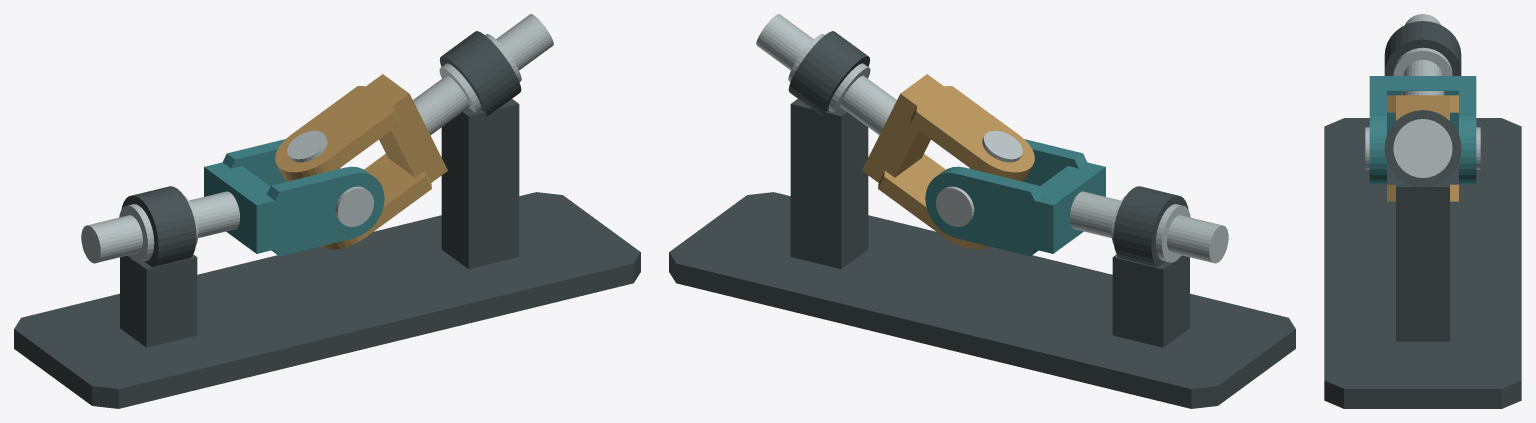
3 views of the same model, side by side, from view 1: azimuth 30°, elevation 25°; view 2: azimuth 150°, elevation 25°; view 3: azimuth 270°, elevation 25° (orthographic).
Visible parts, largest first — view 1: WholeLowDisplayFoot, OutputWholeBearingUpright, InputMinusWholeBoredForkCheek, InputWholeBearingUpright, OutputPlusWholeBoredForkCheek, InputWholeCollaredShortShaft, OutputWholeCollaredShortShaft, InputWholeForkBridge, OutputWholeForkBridge, OutputWholeThroughBearingSleeve, InputWholeThroughBearingSleeve, OutputMinusWholeBoredForkCheek (+3 smaller); view 2: WholeLowDisplayFoot, OutputWholeBearingUpright, InputPlusWholeBoredForkCheek, InputWholeBearingUpright, OutputPlusWholeBoredForkCheek, InputWholeCollaredShortShaft, OutputWholeCollaredShortShaft, OutputWholeForkBridge, InputWholeForkBridge, OutputWholeThroughBearingSleeve, InputWholeThroughBearingSleeve, OutputMinusWholeBoredForkCheek (+3 smaller); view 3: WholeLowDisplayFoot, OutputWholeBearingUpright, OutputWholeCollaredShortShaft, InputWholeThroughBearingSleeve, OutputWholeThroughBearingSleeve, InputMinusWholeBoredForkCheek, InputPlusWholeBoredForkCheek, InputWholeForkBridge, InputWholeCollaredShortShaft, OutputWholeForkBridge, OutputMinusWholeBoredForkCheek, OutputPlusWholeBoredForkCheek (+3 smaller).
Part boxes in pixels (box(x1,y1,x2,y2)): WholeLowDisplayFoot: box(14, 192, 640, 408); OutputWholeBearingUpright: box(441, 99, 519, 268); InputMinusWholeBoredForkCheek: box(267, 166, 384, 256); InputWholeBearingUpright: box(120, 254, 197, 347); OutputPlusWholeBoredForkCheek: box(275, 86, 399, 181); InputWholeCollaredShortShaft: box(81, 191, 239, 263); OutputWholeCollaredShortShaft: box(413, 14, 553, 135); InputWholeForkBridge: box(204, 162, 286, 253); OutputWholeForkBridge: box(366, 74, 447, 182); OutputWholeThroughBearingSleeve: box(439, 31, 521, 116); InputWholeThroughBearingSleeve: box(121, 186, 196, 267); OutputMinusWholeBoredForkCheek: box(320, 154, 431, 249); WholeLowDisplayFoot: box(669, 192, 1295, 408); OutputWholeBearingUpright: box(790, 99, 868, 268); InputPlusWholeBoredForkCheek: box(925, 166, 1042, 256); InputWholeBearingUpright: box(1112, 254, 1189, 347); OutputPlusWholeBoredForkCheek: box(910, 86, 1034, 181); InputWholeCollaredShortShaft: box(1070, 191, 1228, 263); OutputWholeCollaredShortShaft: box(756, 14, 896, 135); OutputWholeForkBridge: box(862, 74, 944, 182); InputWholeForkBridge: box(1023, 162, 1105, 253); OutputWholeThroughBearingSleeve: box(788, 31, 870, 116); InputWholeThroughBearingSleeve: box(1113, 186, 1188, 267); OutputMinusWholeBoredForkCheek: box(878, 154, 989, 249); WholeLowDisplayFoot: box(1324, 118, 1521, 408); OutputWholeBearingUpright: box(1396, 176, 1449, 341); OutputWholeCollaredShortShaft: box(1393, 119, 1452, 177); InputWholeThroughBearingSleeve: box(1384, 21, 1461, 75); OutputWholeThroughBearingSleeve: box(1384, 110, 1461, 186); InputMinusWholeBoredForkCheek: box(1369, 79, 1386, 184); InputPlusWholeBoredForkCheek: box(1459, 79, 1476, 184); InputWholeForkBridge: box(1369, 76, 1476, 134); InputWholeCollaredShortShaft: box(1393, 14, 1452, 75); OutputWholeForkBridge: box(1396, 95, 1449, 120); OutputMinusWholeBoredForkCheek: box(1387, 184, 1458, 201); OutputPlusWholeBoredForkCheek: box(1387, 95, 1458, 112).
Size of the model in its own units: 1.3 by 0.5529 by 0.4.
